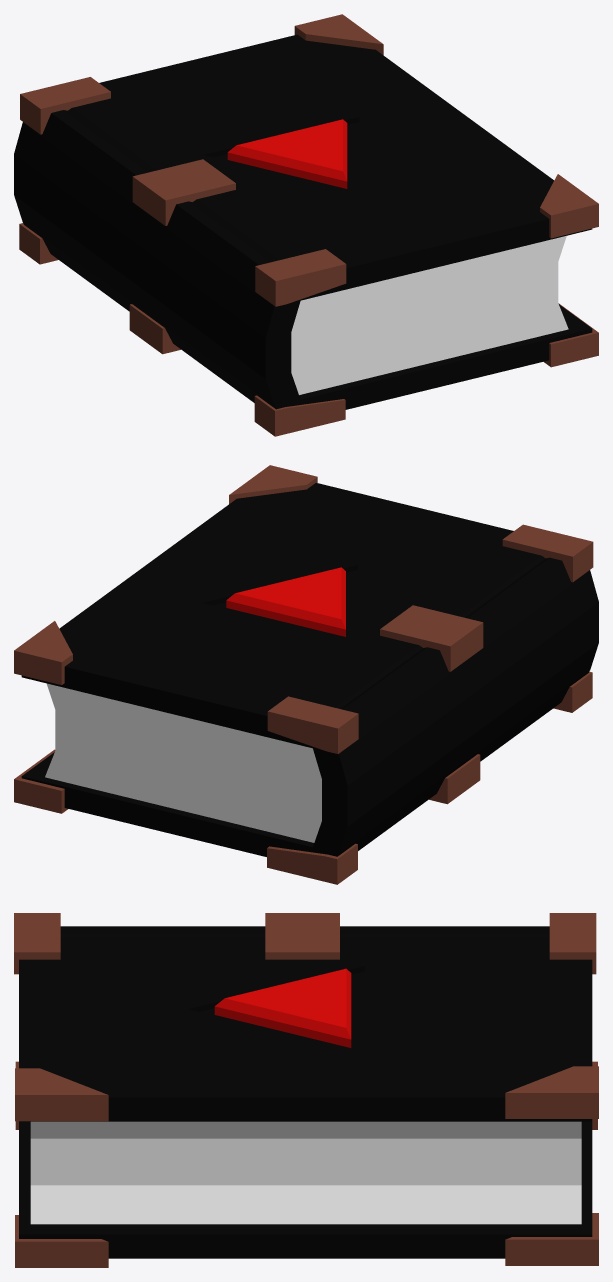
The model's file is Book.fbx.
3 views of the same model, one above another, from view 1: azimuth 30°, elevation 25°; view 2: azimuth 150°, elevation 25°; view 3: azimuth 270°, elevation 25° (orthographic). The views are drawn at different scales.
Parts seen in each view (by area): view 1: Cube; view 2: Cube; view 3: Cube.
Boxes of the visible parts, x1=… form: Cube: x1=14, y1=14, x2=598, y2=436; Cube: x1=14, y1=465, x2=598, y2=884; Cube: x1=14, y1=913, x2=598, y2=1267.
Size of the model in its own units: 243 by 111 by 326.
